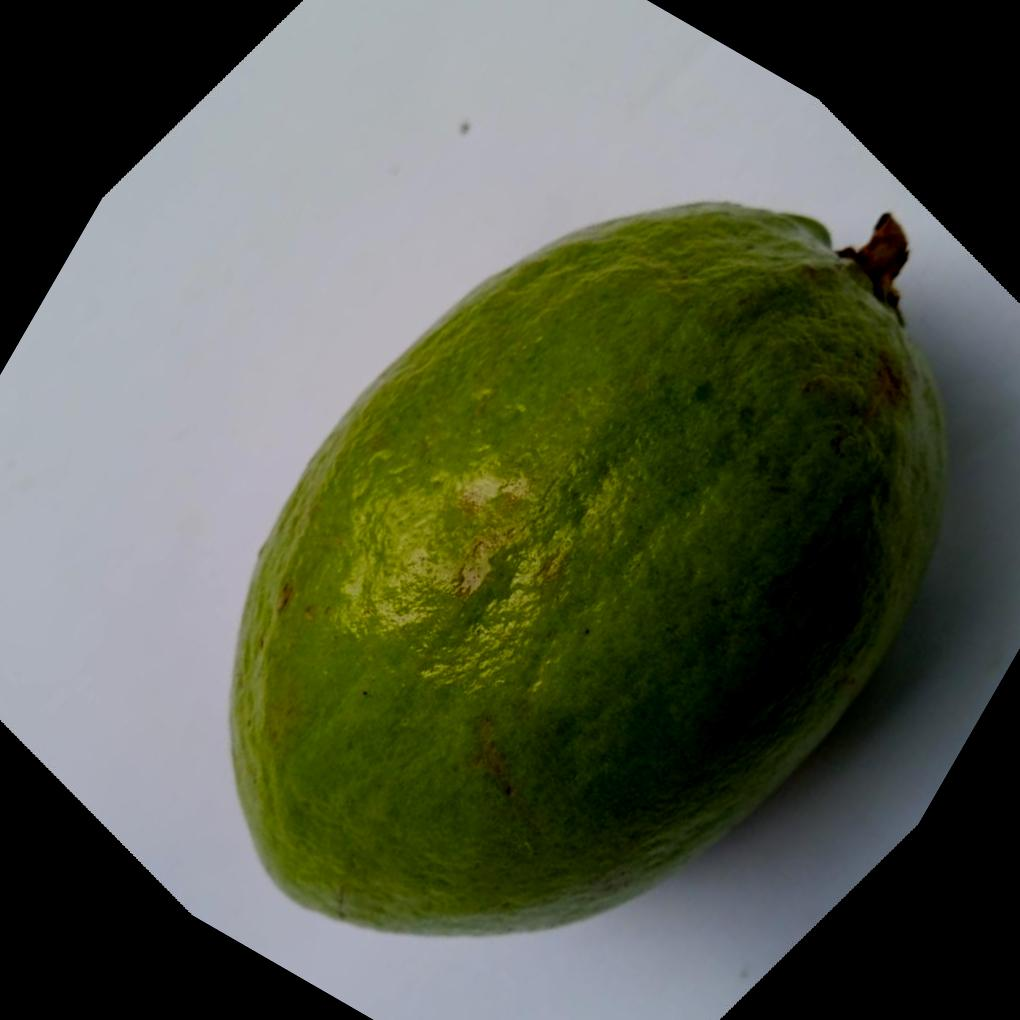FreshGuava: (223, 201, 947, 942)
